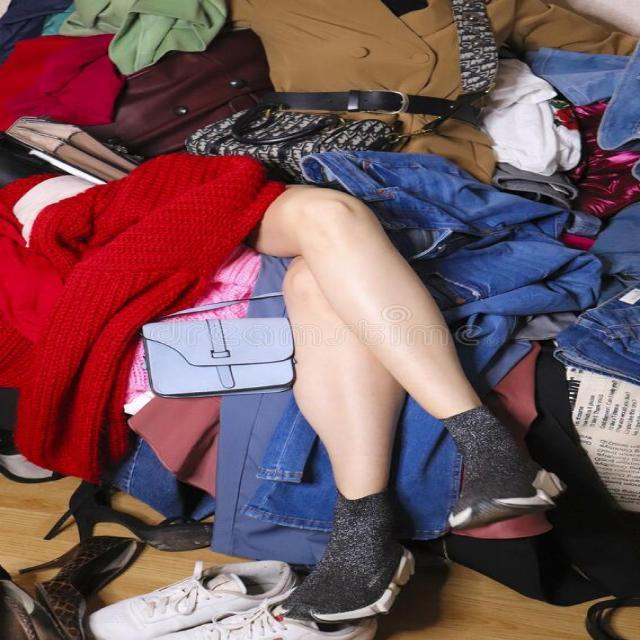clothes: (82, 34, 603, 177), (22, 192, 250, 474)
